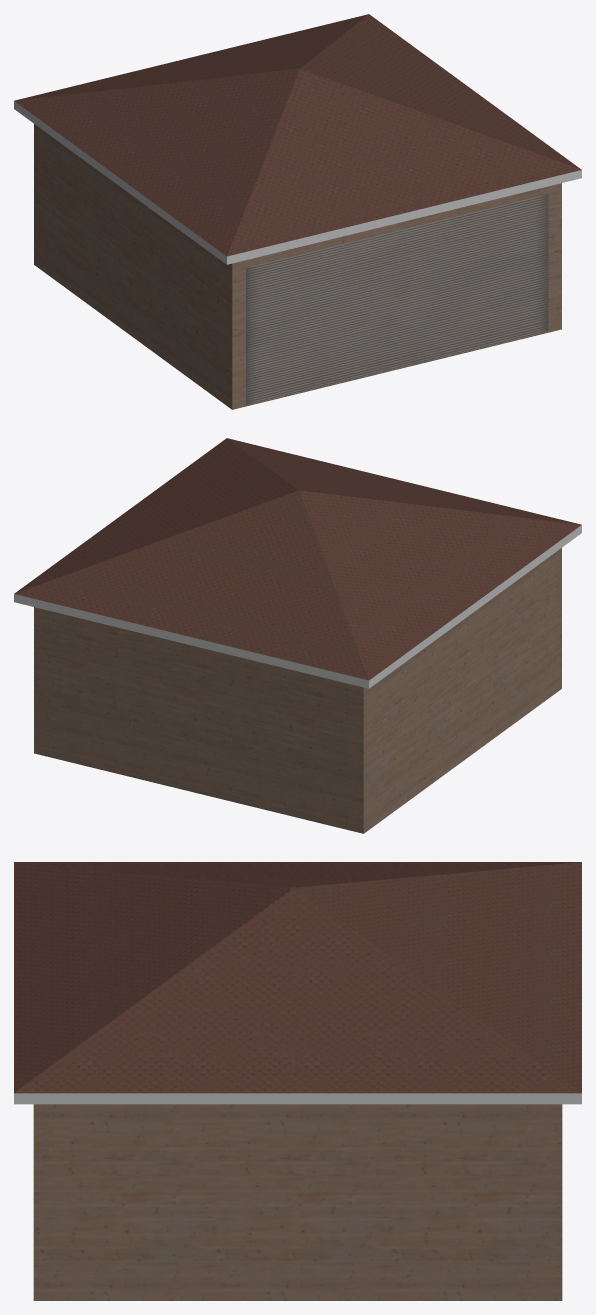
The model's file is Garage.fbx.
3 views of the same model, one above another, from view 1: azimuth 30°, elevation 25°; view 2: azimuth 150°, elevation 25°; view 3: azimuth 270°, elevation 25° (orthographic). The views are drawn at different scales.
Visible parts, largest first — view 1: Exterior, Garage door; view 2: Exterior; view 3: Exterior.
Boxes of the visible parts, bbox=[...] form: Exterior: bbox=[14, 14, 581, 409]; Garage door: bbox=[246, 194, 548, 404]; Exterior: bbox=[14, 438, 581, 833]; Exterior: bbox=[14, 862, 581, 1300].
Bounding box in the file's own units: 651 × 404 × 676.
